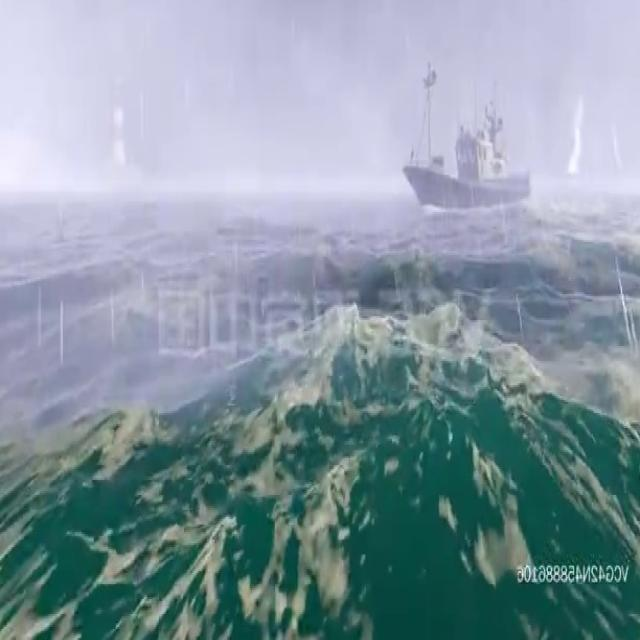fishing boat: (403, 66, 538, 207)
